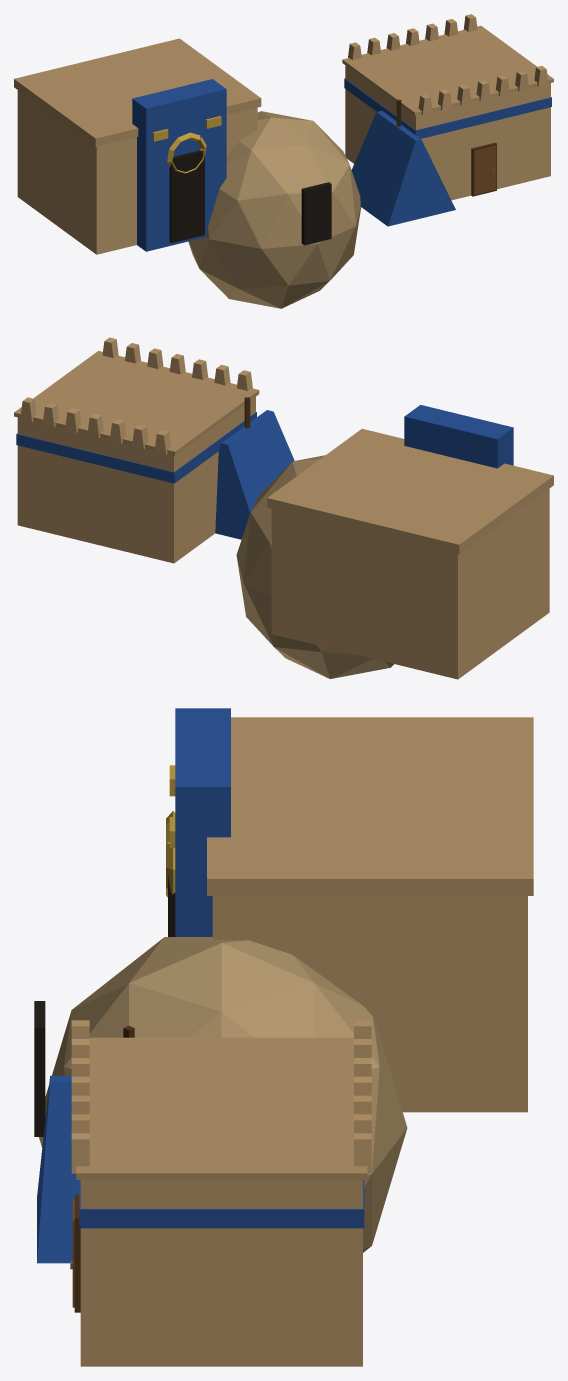
File: minotaur_compound.glb
3 views of the same model, one above another, from view 1: azimuth 30°, elevation 25°; view 2: azimuth 150°, elevation 25°; view 3: azimuth 270°, elevation 25° (orthographic). The views are drawn at different scales.
Parts seen in each view (by area): view 1: minotaur_compound; view 2: minotaur_compound; view 3: minotaur_compound.
Boxes of the visible parts, left/top/right/bottom form: minotaur_compound: left=14, top=14, right=553, bottom=308; minotaur_compound: left=14, top=337, right=553, bottom=679; minotaur_compound: left=34, top=708, right=533, bottom=1366.
Size of the model in its own units: 2.91 by 1.54 by 1.48.
